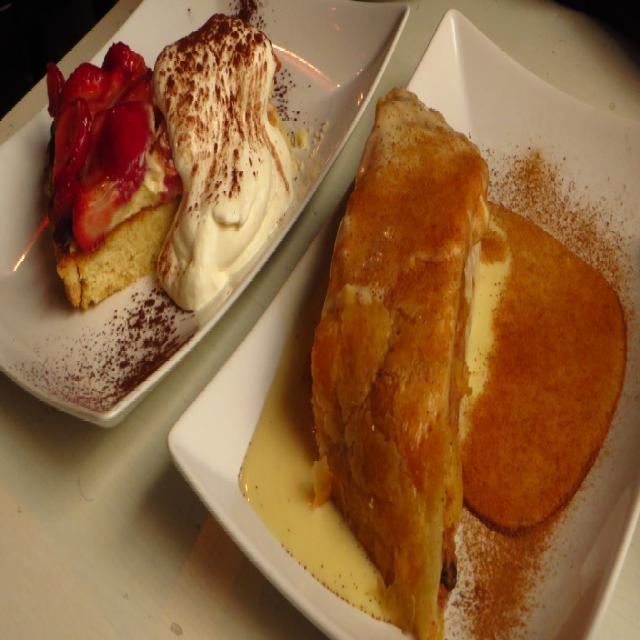Bread: (321, 84, 536, 598), (44, 137, 182, 316)
